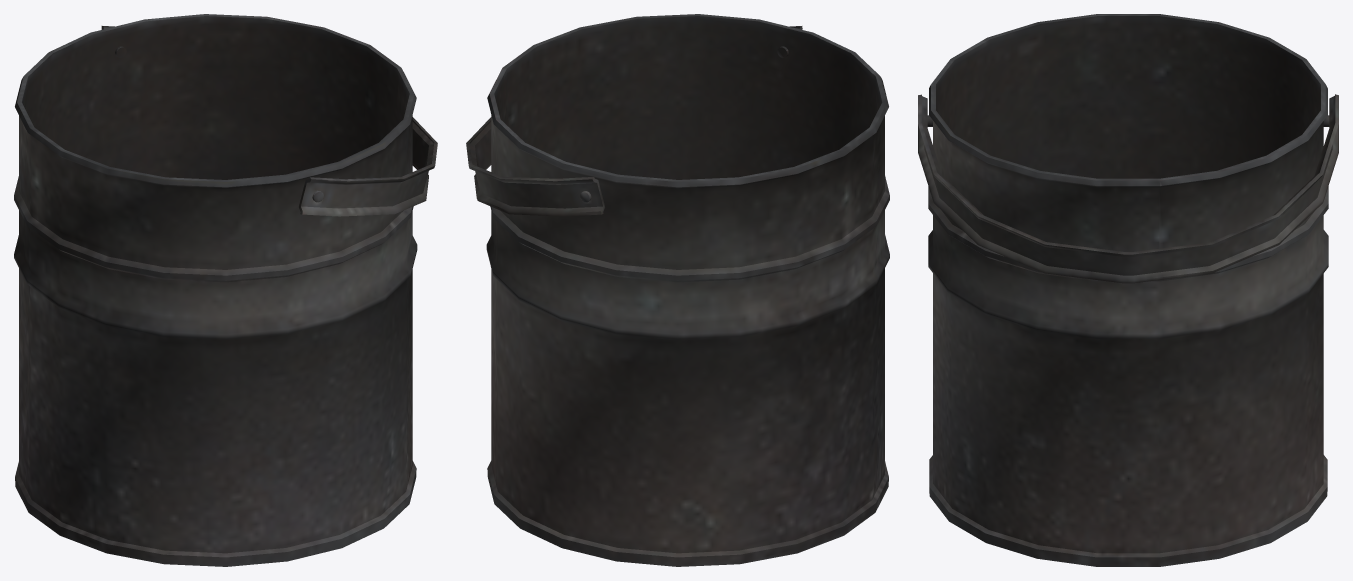
File: SM_Bucket_Small_16.fbx
3 views of the same model, side by side, from view 1: azimuth 30°, elevation 25°; view 2: azimuth 150°, elevation 25°; view 3: azimuth 270°, elevation 25° (orthographic).
Visible parts, largest first — view 1: SM_Bucket_Small_16; view 2: SM_Bucket_Small_16; view 3: SM_Bucket_Small_16.
Part boxes in pixels (left/top/right/bottom): SM_Bucket_Small_16: left=14, top=14, right=437, bottom=566; SM_Bucket_Small_16: left=466, top=14, right=889, bottom=566; SM_Bucket_Small_16: left=918, top=14, right=1338, bottom=566.
Size of the model in its own units: 36.03 by 36.18 by 35.77.
1 material, 1 textured.
